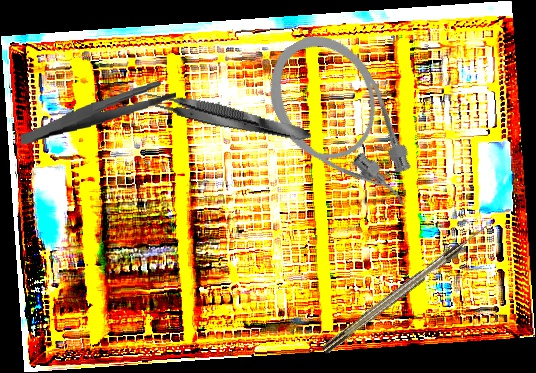Cannula: (250, 18, 434, 238)
Dressing Forceps: (17, 79, 179, 146)
Hook Surgical: (320, 222, 491, 355)
Tissue Forceps: (141, 87, 314, 148)
